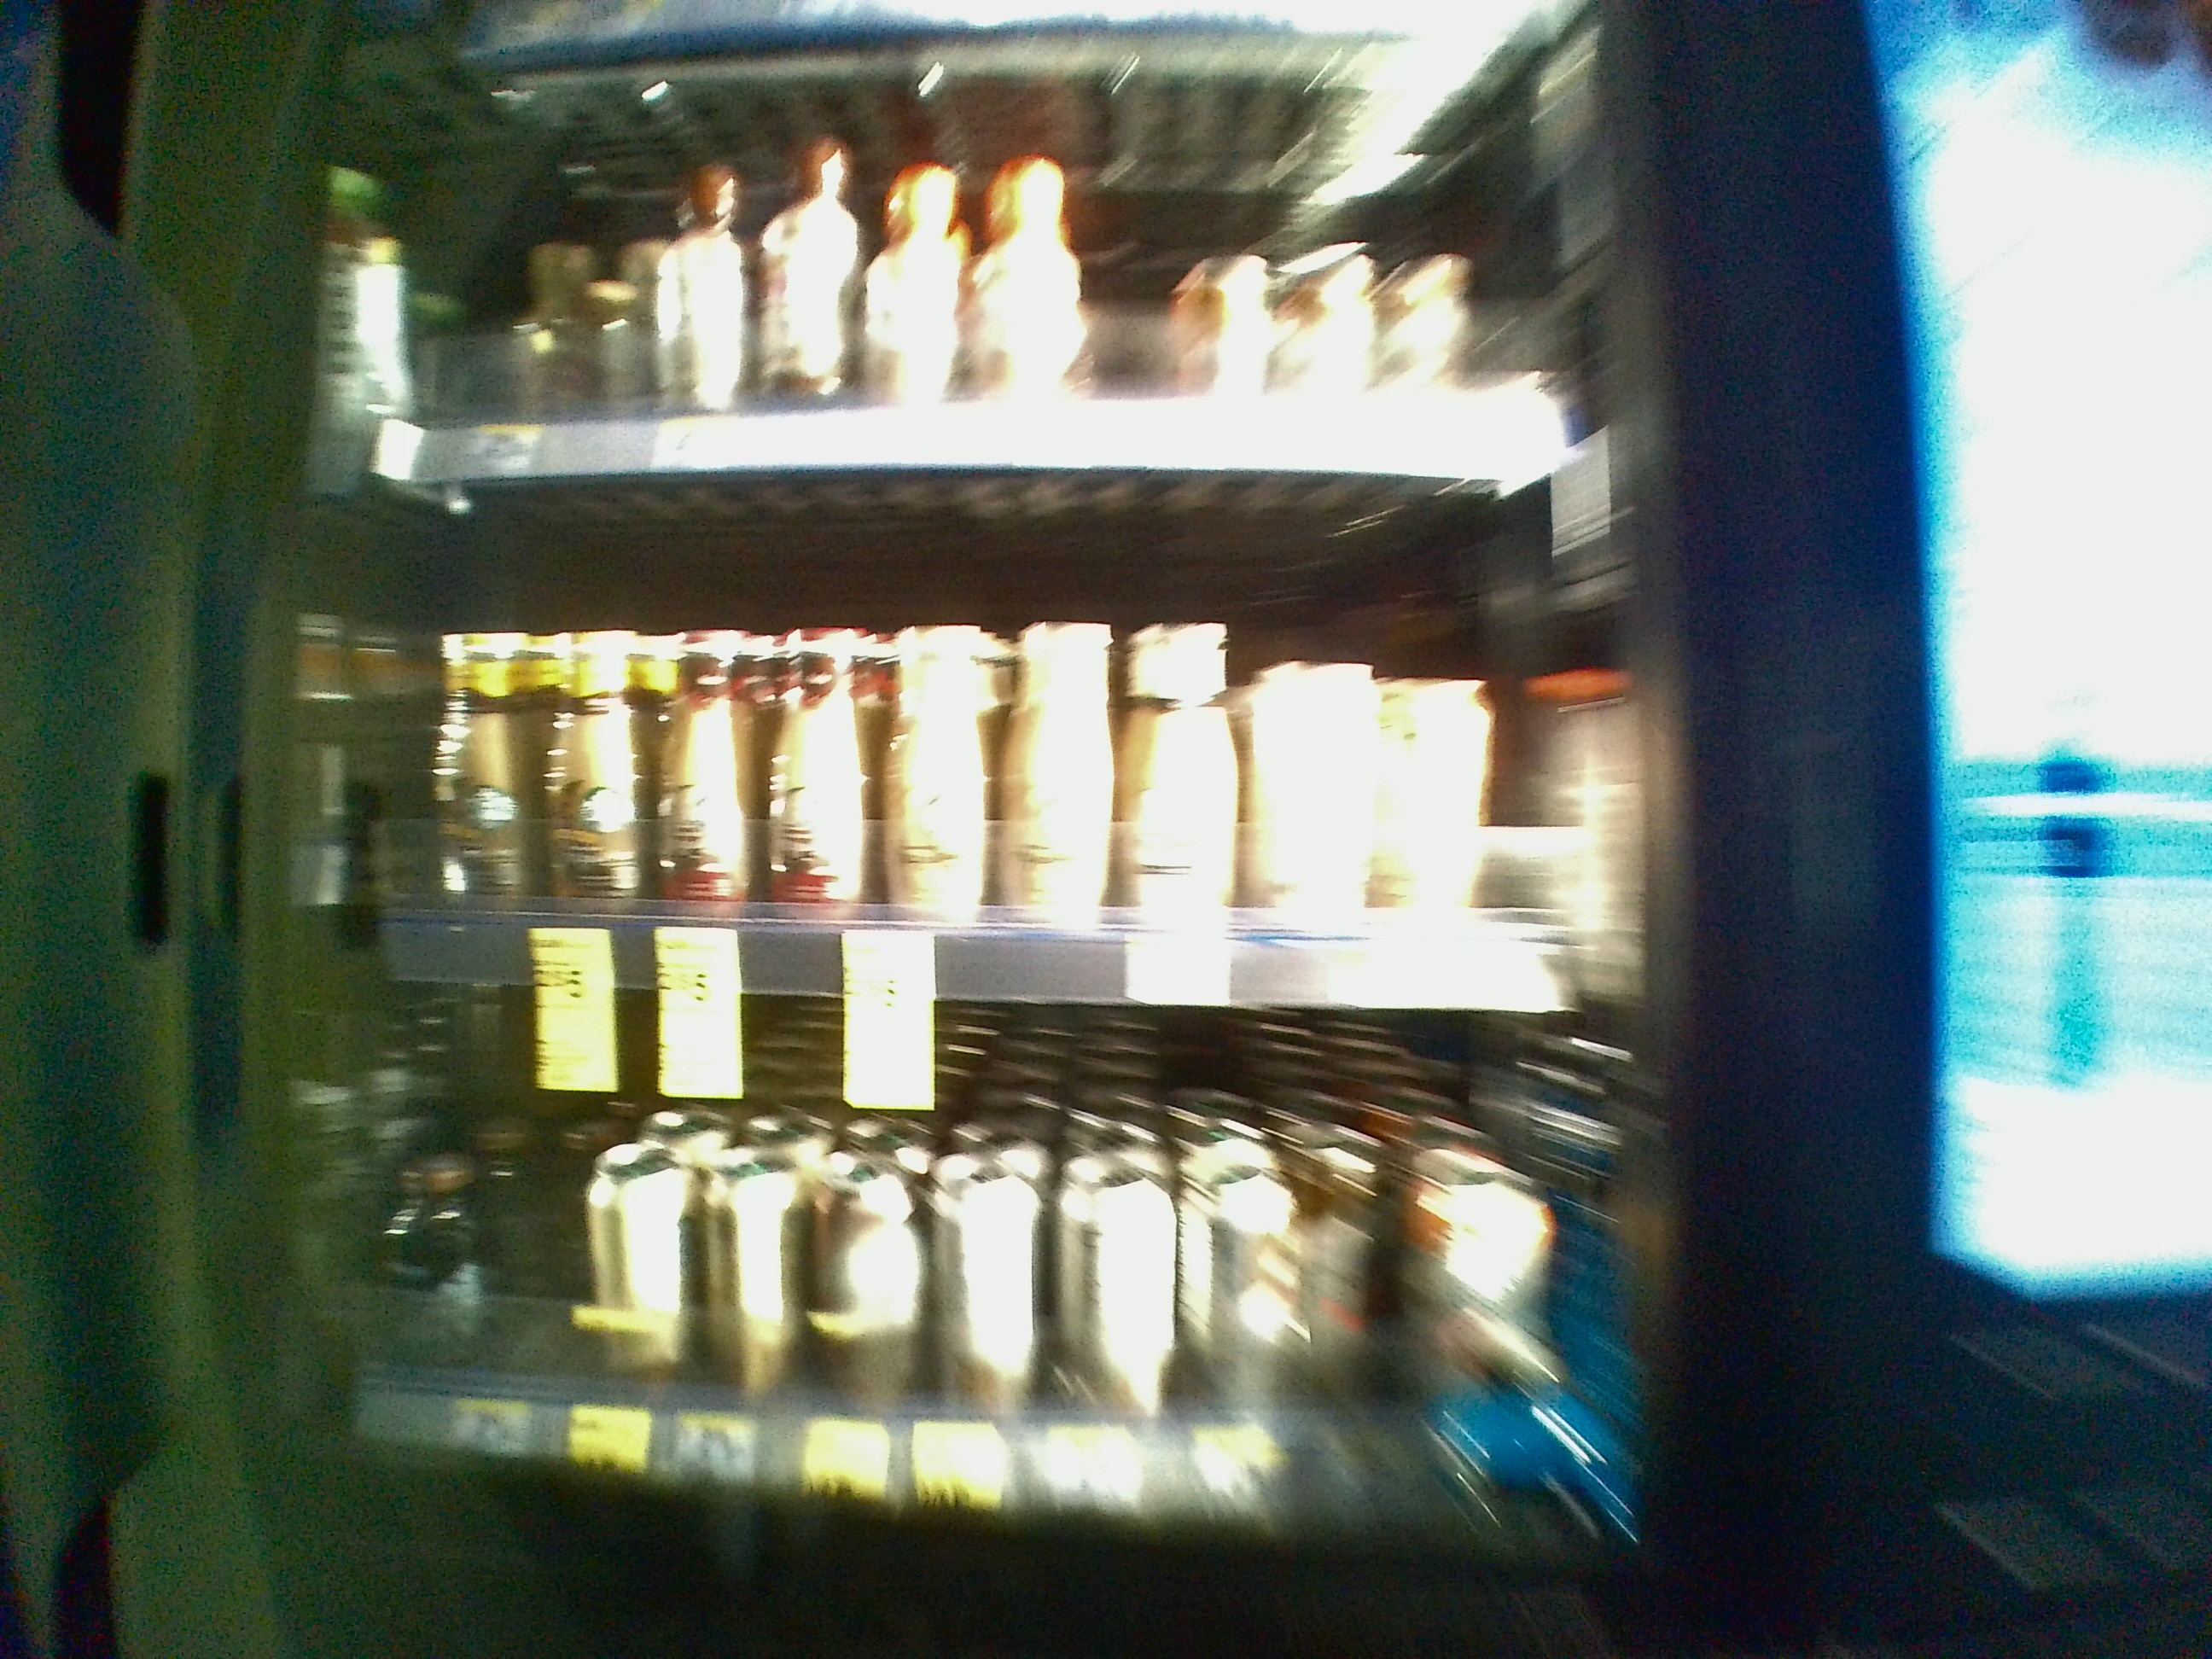shelf: (239, 985, 1662, 1544), (277, 488, 1655, 1014)
